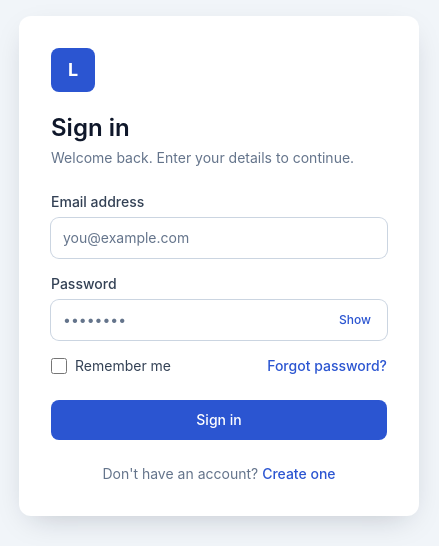
Test case: login flow › signs in with valid credentials and lands on the dashboard
Type "user@example.com" into the field labelled "Email address".
click(219, 238); type("user@example.com")  # box top-left (51, 218), bottom-right (387, 258)
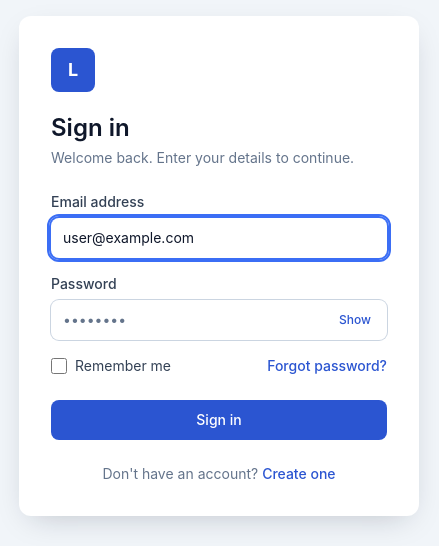
Type "password123" into the password field labelled "Password".
click(219, 320); type("password123")  # box top-left (51, 300), bottom-right (387, 340)
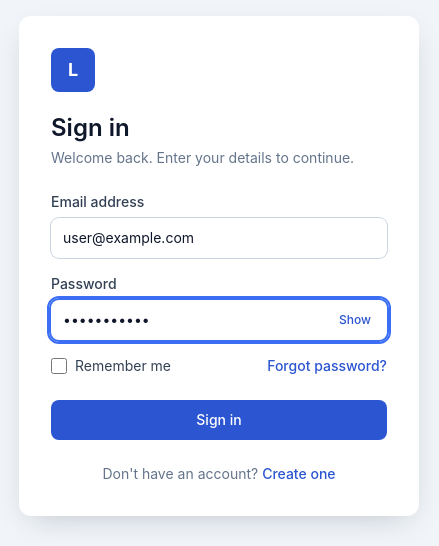
Click the button "Sign in".
click(219, 420)  # box top-left (51, 400), bottom-right (387, 440)
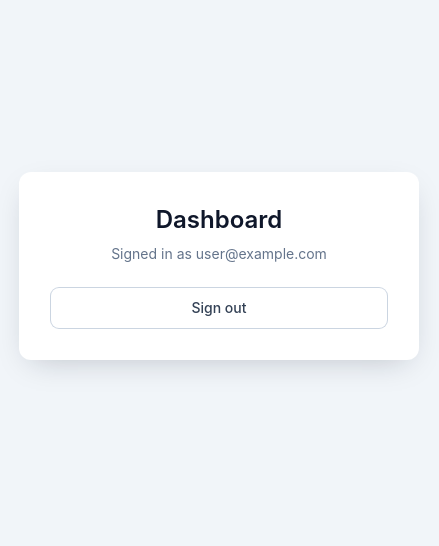
Now the heading "Dashboard" is shown, box top-left (156, 205), bottom-right (282, 234)
